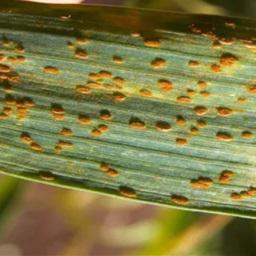Wheat: (0, 18, 243, 145), (174, 157, 256, 206), (97, 158, 152, 195)
